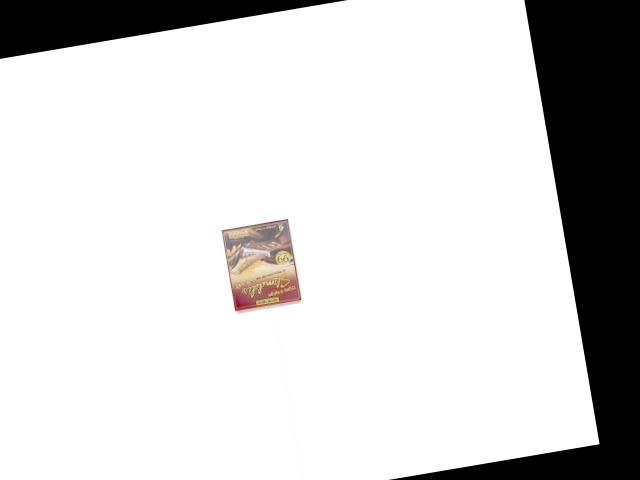chocolate: (221, 218, 302, 314)
